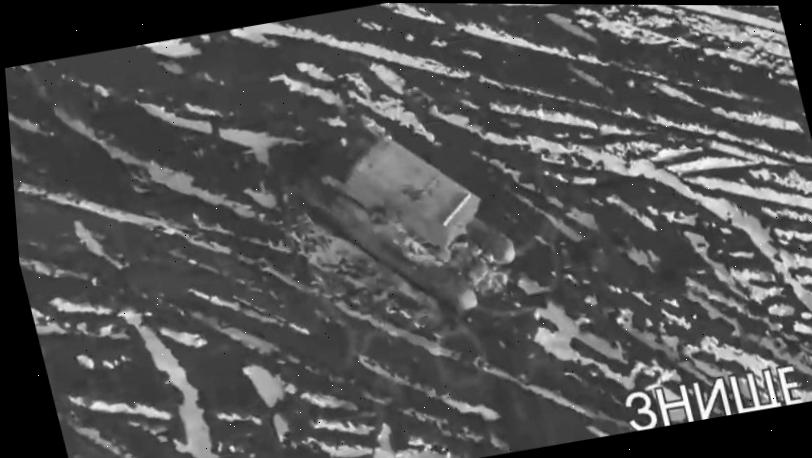rszo: (277, 106, 533, 337)
